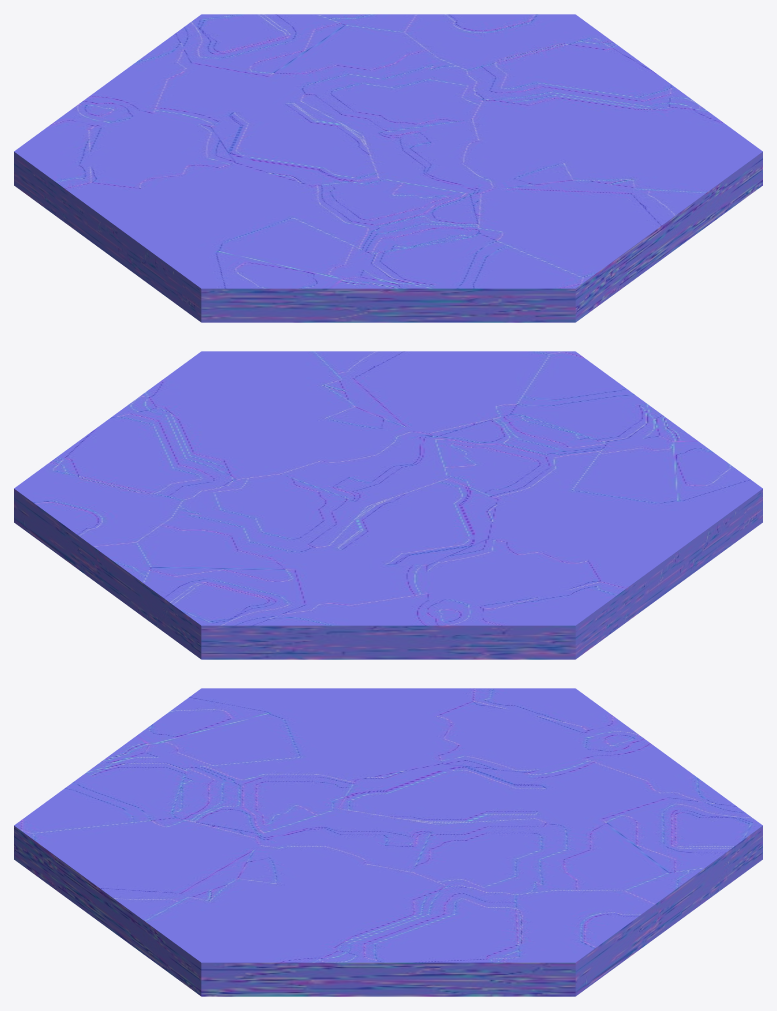
The model's file is Swamp.glb.
3 renders of one model, top to bottom at view 1: azimuth 30°, elevation 25°; view 2: azimuth 150°, elevation 25°; view 3: azimuth 270°, elevation 25°, orthographic.
Visible parts, largest first — view 1: 12 Wastes; view 2: 12 Wastes; view 3: 12 Wastes.
Boxes of the visible parts, x1,y1,x2,y2 form: 12 Wastes: [14, 14, 762, 322]; 12 Wastes: [14, 351, 762, 659]; 12 Wastes: [14, 688, 762, 996].
Bounding box in the file's own units: 1.73 × 0.1 × 2.
Materials: 1 (1 with a texture image).
